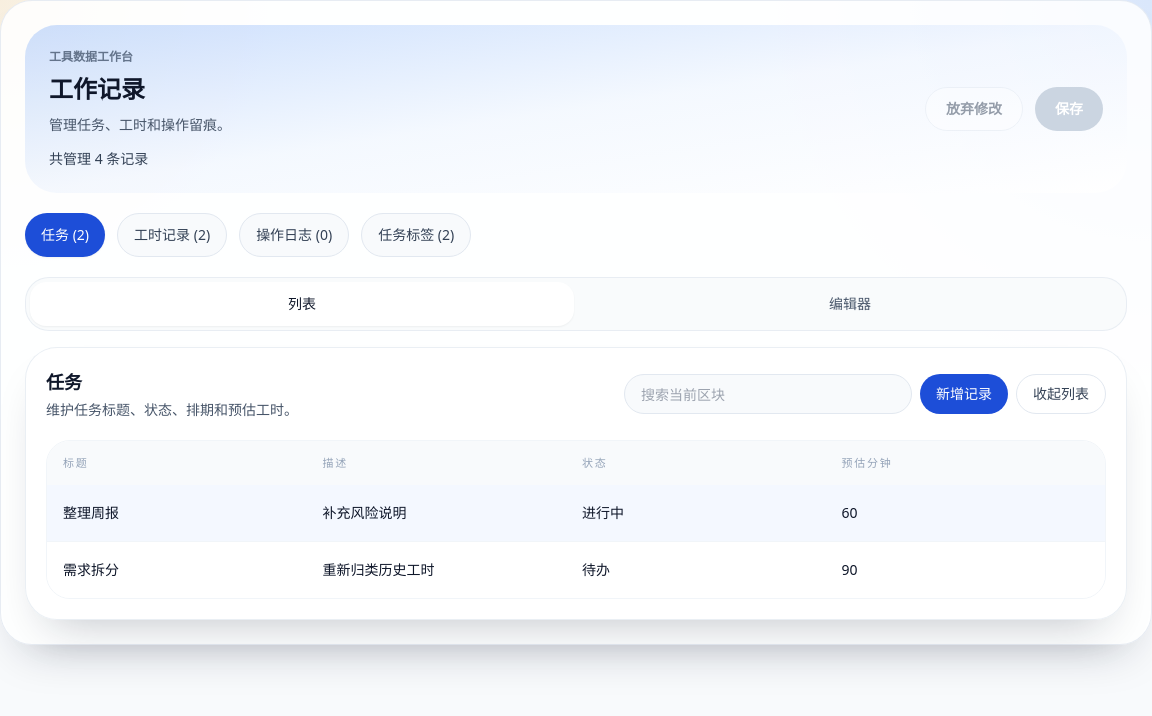
Test: ToolWorkspace › 工时归属改为独立画布模态入口，并移除内联树状切换
The image size is (1152, 716).
Click the button "工时记录 (2)" at (172, 235), box [117,213,227,257]
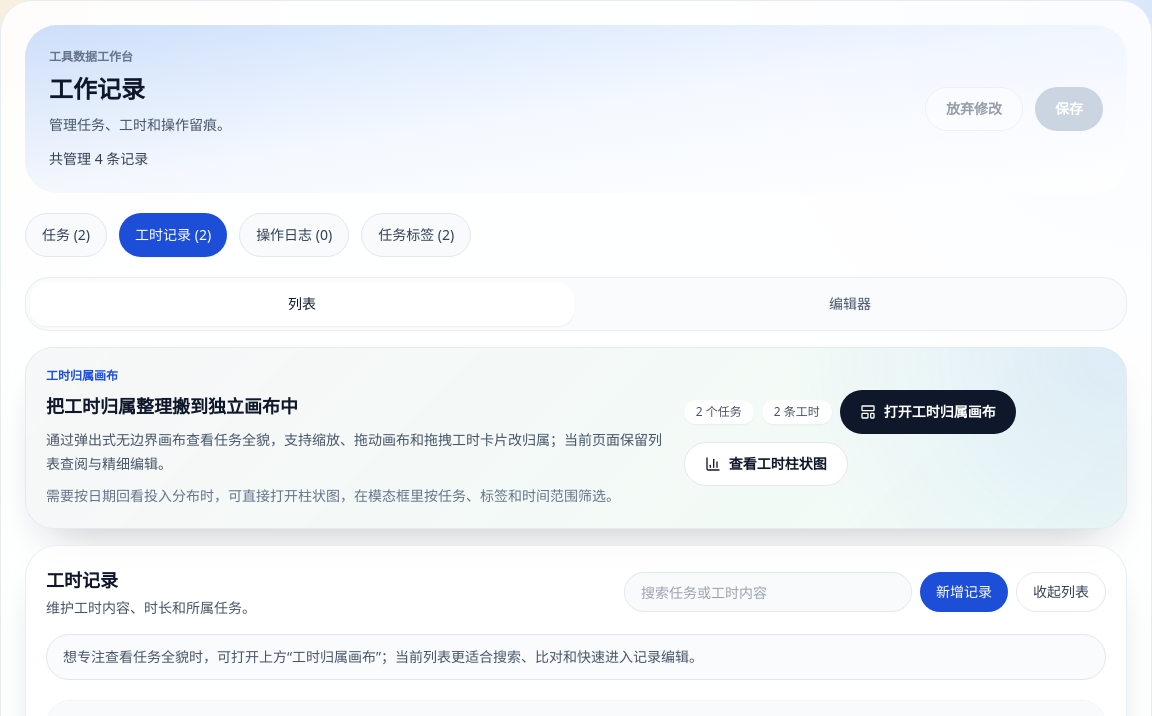
Check: the button "打开工时归属画布" is shown, box [840,390,1016,434]
Check: the button "查看工时柱状图" is shown, box [684,442,848,486]
